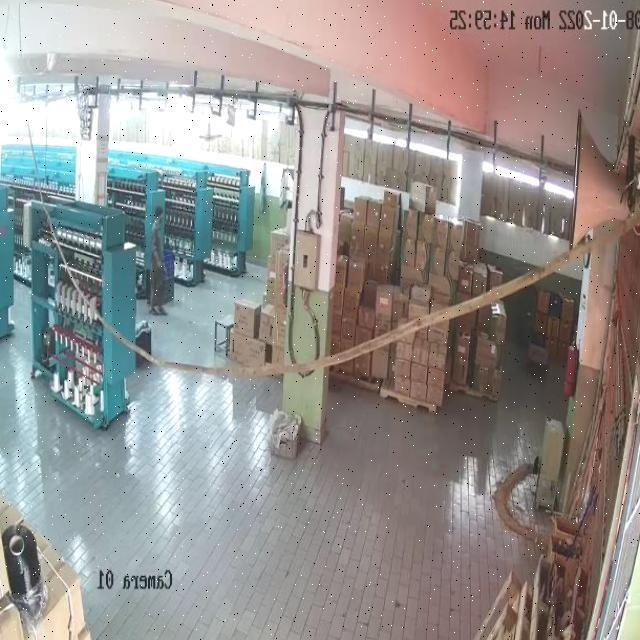person: (148, 204, 163, 310)
